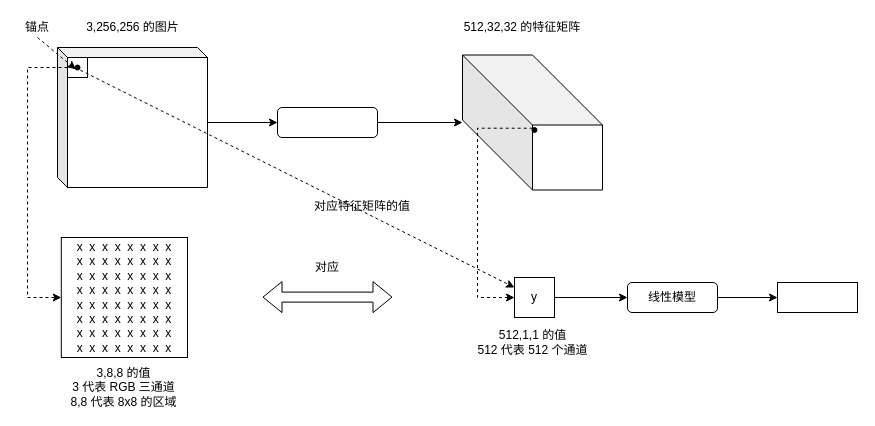
Image size: 875x426. Some labels were removed from this diagram. The box of each missing label's shape, as (x1, y1, x2, y2) in pixels:
Resnet-18 模型 卷积层部分: (276, 106, 378, 138)
是否包含对象: (776, 282, 858, 312)
